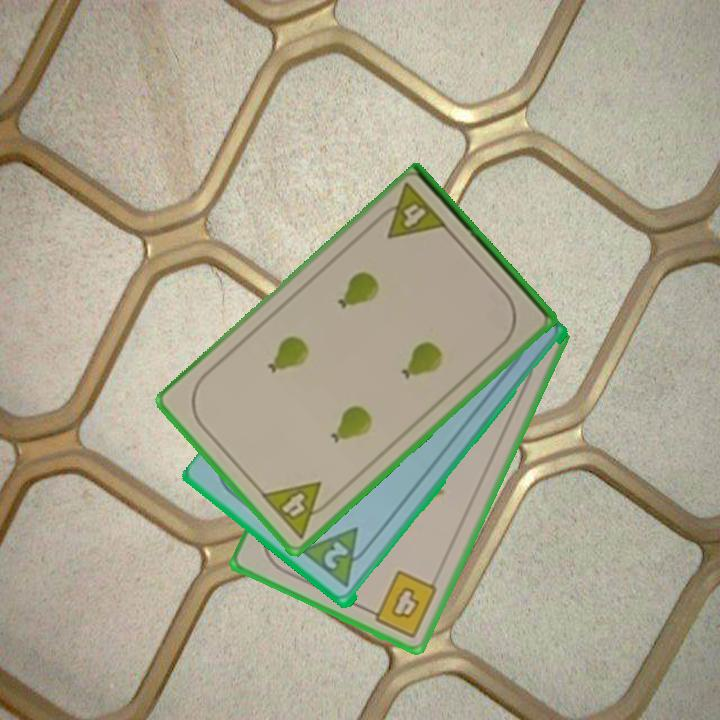2p: (320, 538, 352, 573)
4b: (361, 567, 441, 641)
4p: (257, 478, 338, 542), (371, 180, 451, 242)
